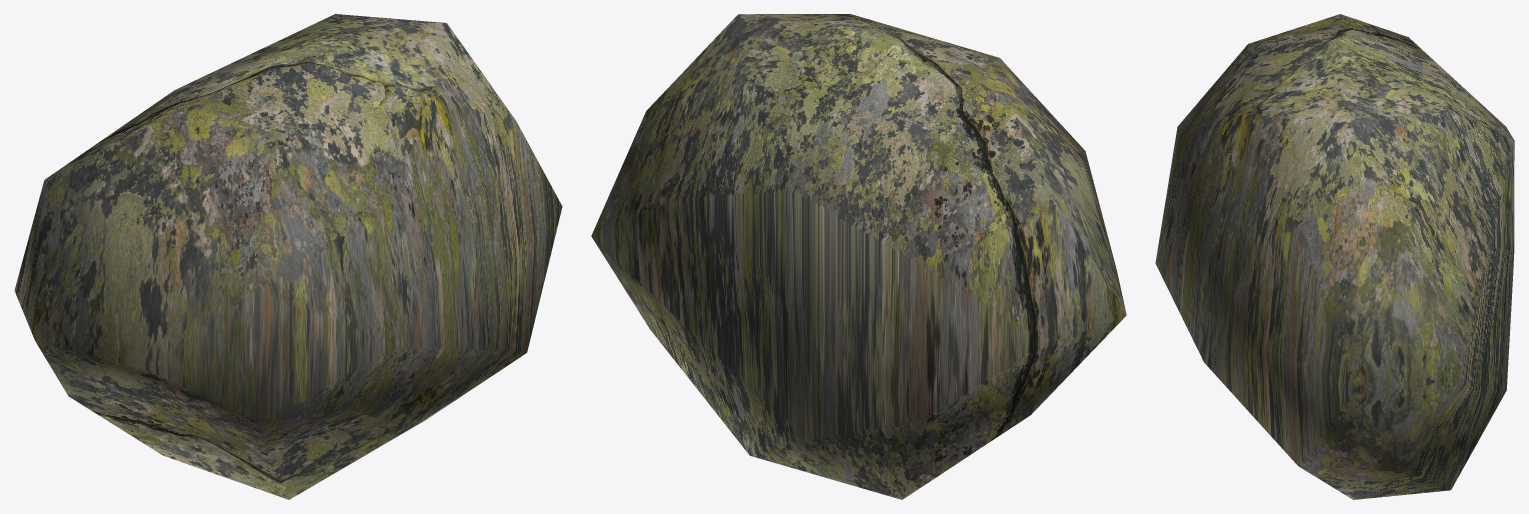
File: boulder_e_lod2.gltf
3 renders of one model, left to right at view 1: azimuth 30°, elevation 25°; view 2: azimuth 150°, elevation 25°; view 3: azimuth 270°, elevation 25°, orthographic. The views are drawn at different scales.
Parts seen in each view (by area): view 1: boulder_e_LOD2; view 2: boulder_e_LOD2; view 3: boulder_e_LOD2.
Boxes of the visible parts, x1,y1,x2,y2 form: boulder_e_LOD2: (14,14,562,499); boulder_e_LOD2: (591,14,1126,499); boulder_e_LOD2: (1155,14,1514,499).
Size of the model in its own units: 1.98 by 1.64 by 1.2.
Materials: 1 (1 with a texture image).
